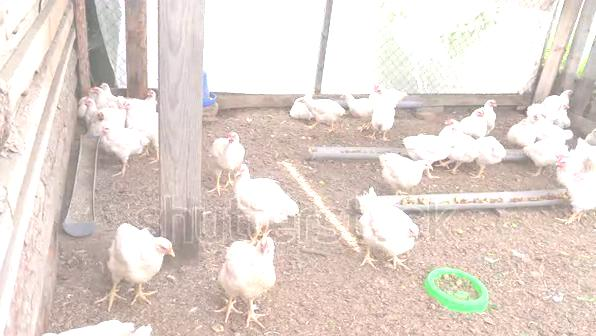Pollos: (107, 220, 180, 287), (231, 162, 297, 229), (353, 190, 416, 256), (220, 233, 276, 301), (557, 154, 596, 210), (407, 126, 460, 161), (380, 158, 435, 190), (99, 126, 150, 160), (295, 98, 345, 128), (373, 88, 399, 140), (212, 131, 244, 163), (506, 115, 536, 146), (462, 106, 489, 136)
